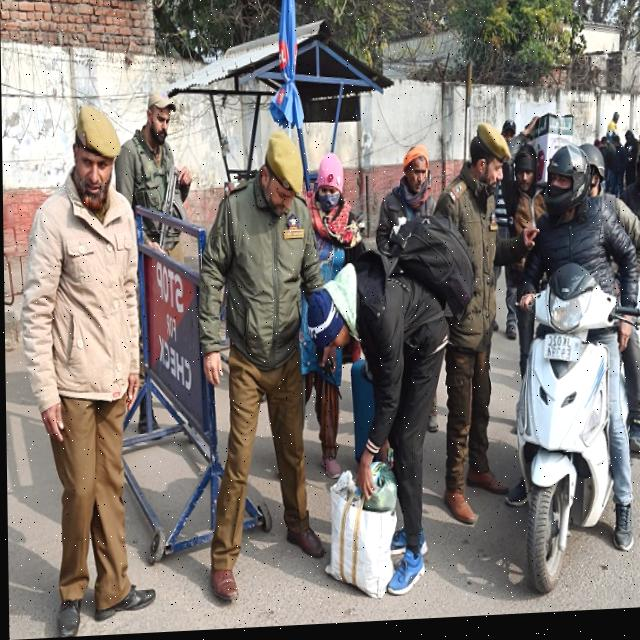plate: (537, 331, 583, 375)
